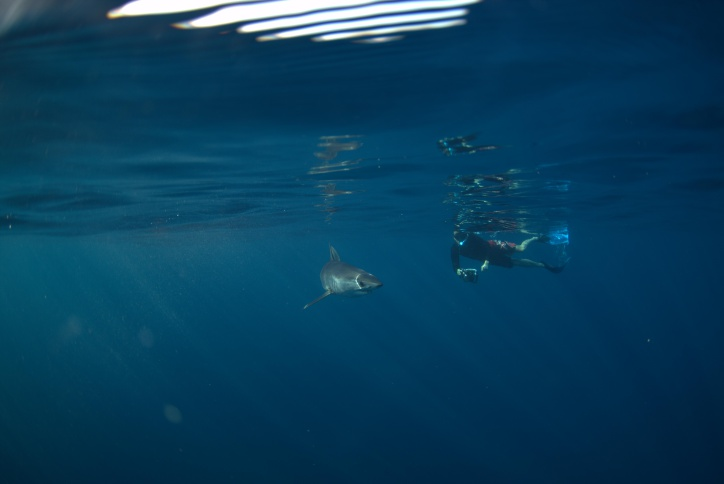Mako: (286, 239, 392, 317)
